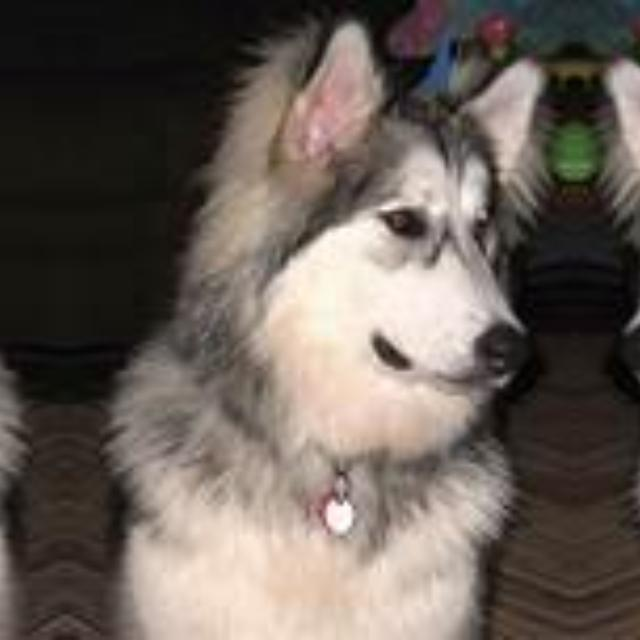dog: (106, 44, 574, 640), (575, 44, 640, 640), (0, 44, 24, 640)
